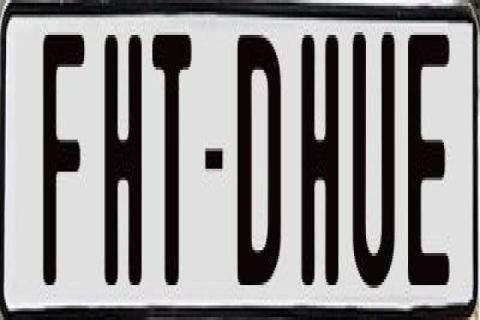D: (234, 35, 280, 285)
E: (405, 29, 449, 297)
F: (42, 29, 82, 288)
H: (302, 32, 340, 288), (103, 26, 140, 282)
T: (150, 29, 192, 294)
U: (353, 29, 395, 303)
